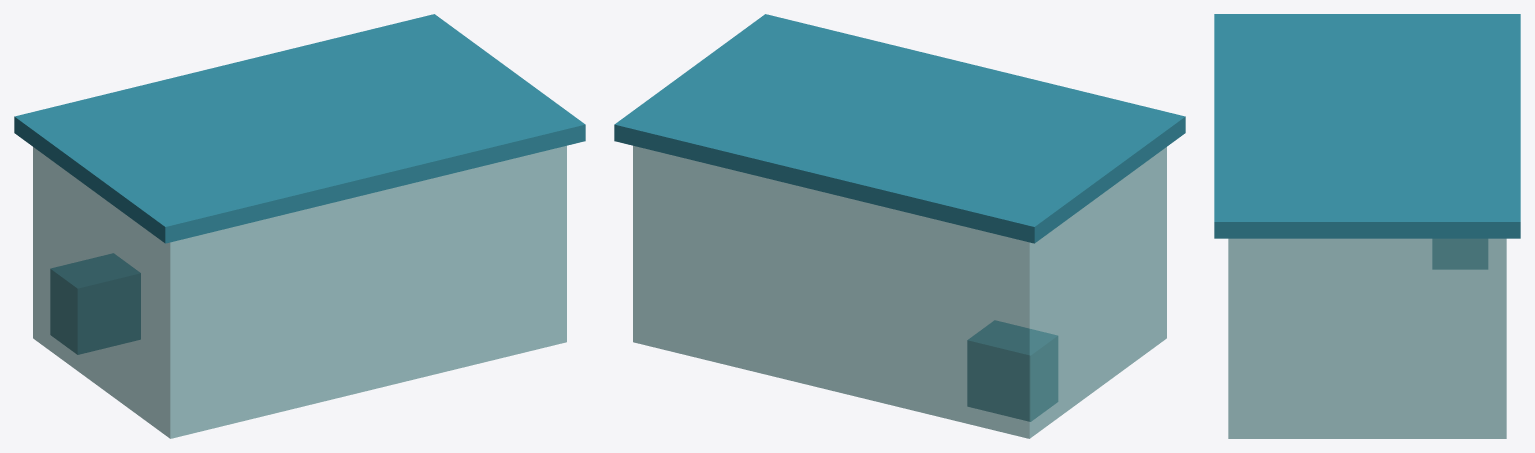
Rendered from heated-greenhouse.source.glb.
The picture shows the model from 3 angles, left to right: view 1: azimuth 30°, elevation 25°; view 2: azimuth 150°, elevation 25°; view 3: azimuth 270°, elevation 25°; orthographic projection.
Visible parts, largest first — view 1: heated-greenhouse-house-mesh, heated-greenhouse-roof-mesh, heated-greenhouse-heater-mesh; view 2: heated-greenhouse-house-mesh, heated-greenhouse-roof-mesh, heated-greenhouse-heater-mesh; view 3: heated-greenhouse-roof-mesh, heated-greenhouse-house-mesh, heated-greenhouse-heater-mesh.
Boxes of the visible parts, x1,y1,x2,y2 form: heated-greenhouse-house-mesh: (33,145,566,438); heated-greenhouse-roof-mesh: (14,14,585,243); heated-greenhouse-heater-mesh: (50,253,140,354); heated-greenhouse-house-mesh: (633,145,1166,438); heated-greenhouse-roof-mesh: (614,14,1185,243); heated-greenhouse-heater-mesh: (967,320,1057,421); heated-greenhouse-roof-mesh: (1214,14,1520,238); heated-greenhouse-house-mesh: (1228,238,1506,438); heated-greenhouse-heater-mesh: (1432,239,1487,269).
Size of the model in its own units: 5.3 by 2.65 by 3.3.
